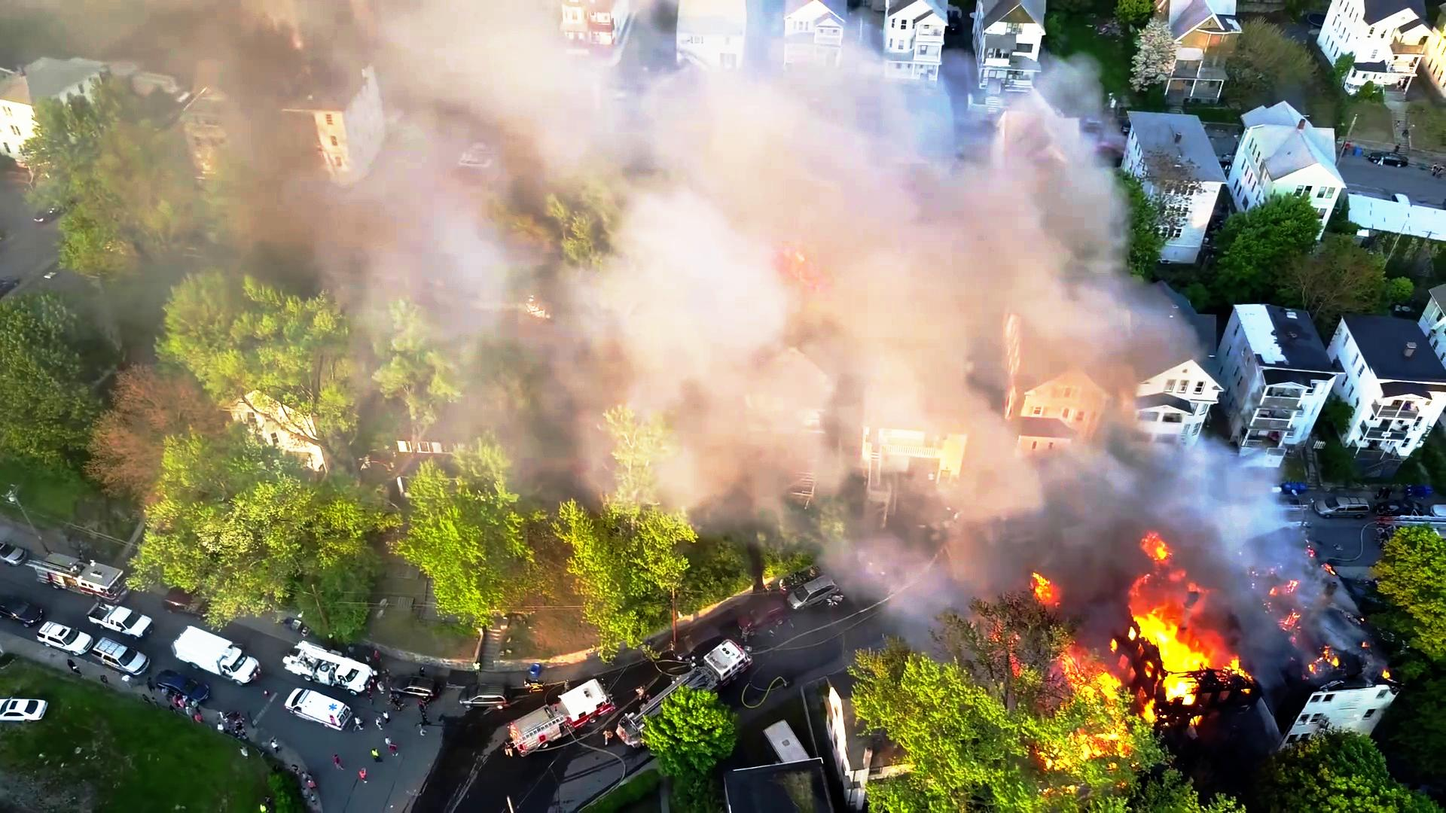fire: (1128, 535, 1257, 706), (1051, 650, 1135, 738)
